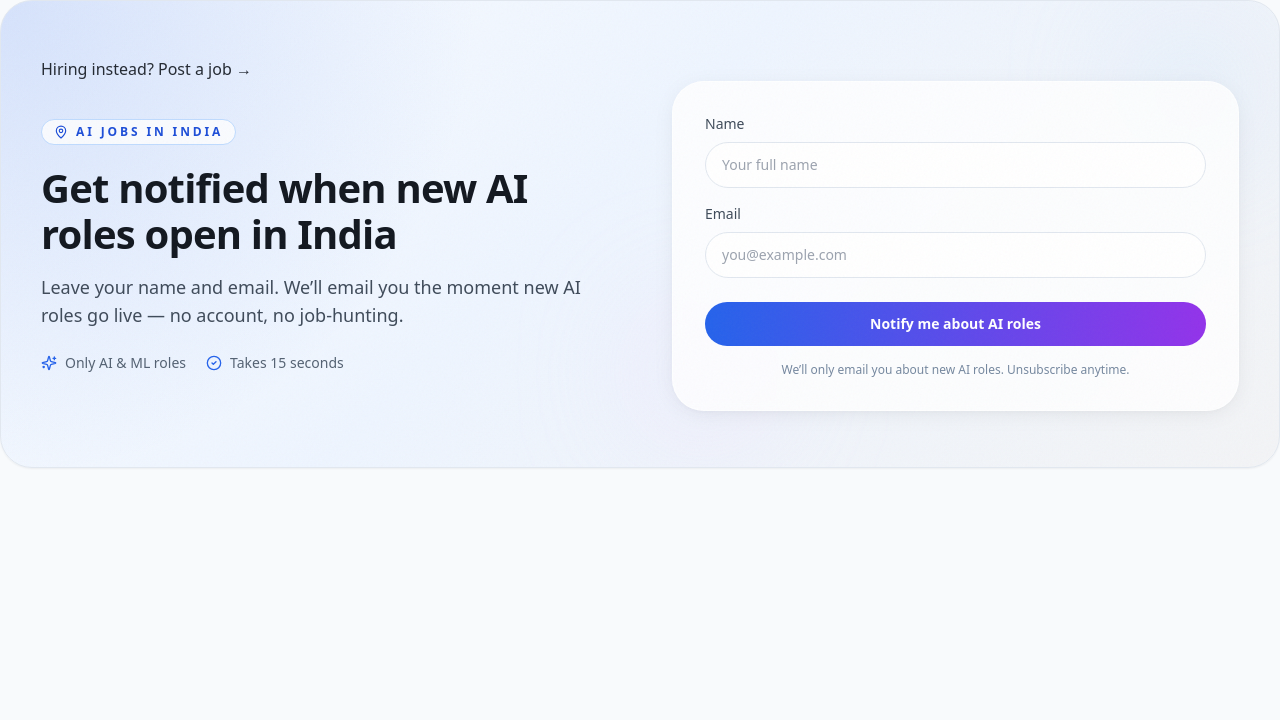
it: CandidateSignupHero › falls back to a friendly message when the failure is opaque
The width and height of the screenshot is (1280, 720).
Type "Ravi Menon" into the field labelled "Name".
click(956, 165); type("Ravi Menon")  # box [705,142,1206,188]
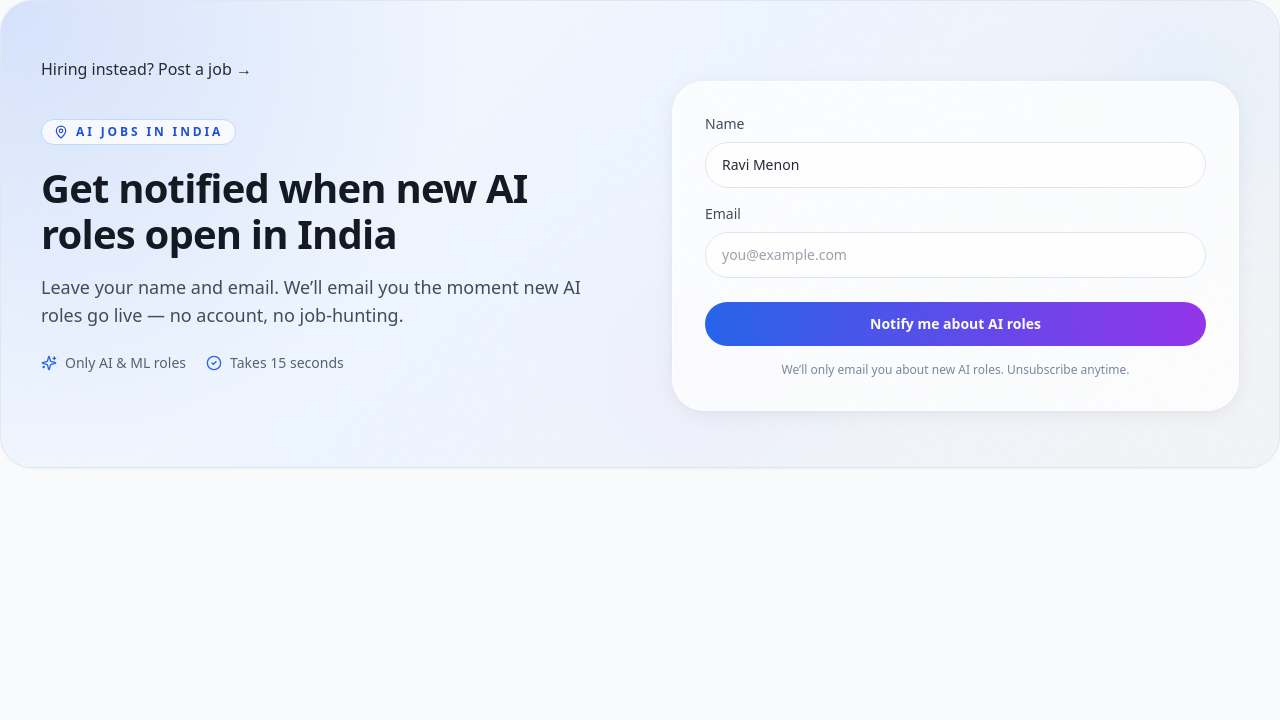
Type "ravi@example.com" into the field labelled "Email".
click(956, 255); type("ravi@example.com")  # box [705,232,1206,278]
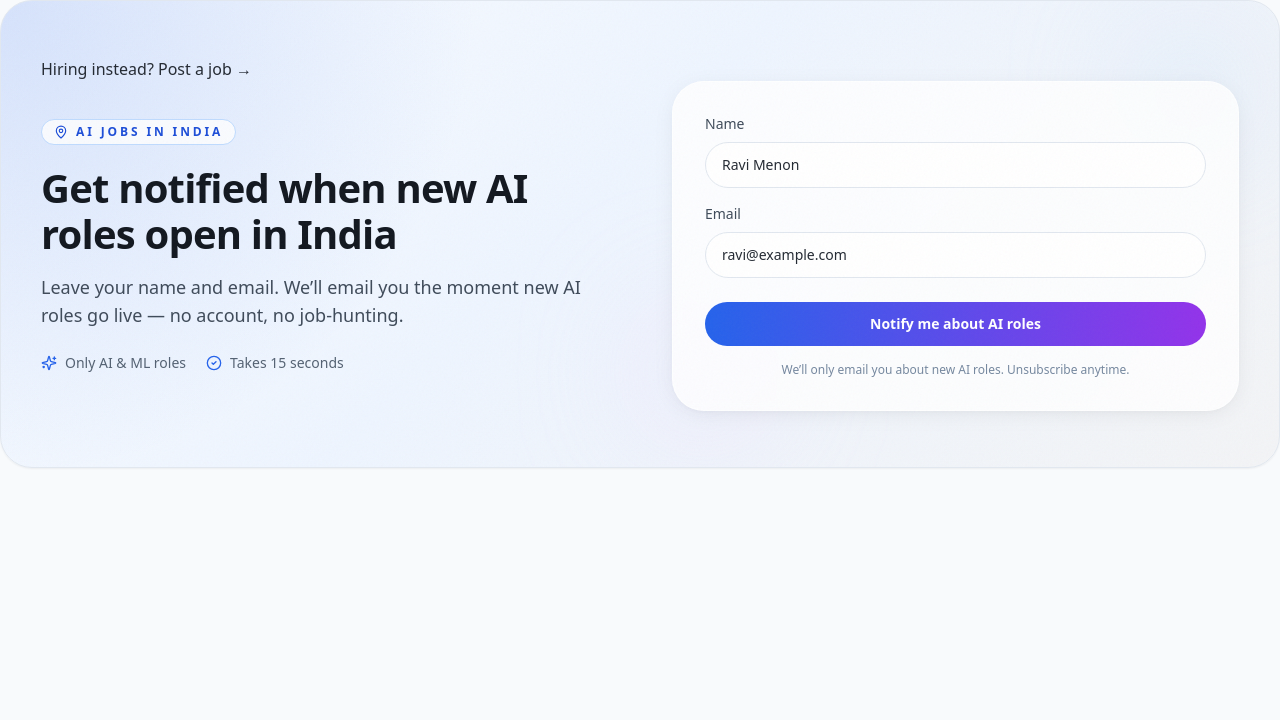
Click the button "Notify me about AI roles".
click(956, 324)  # box [705,302,1206,346]
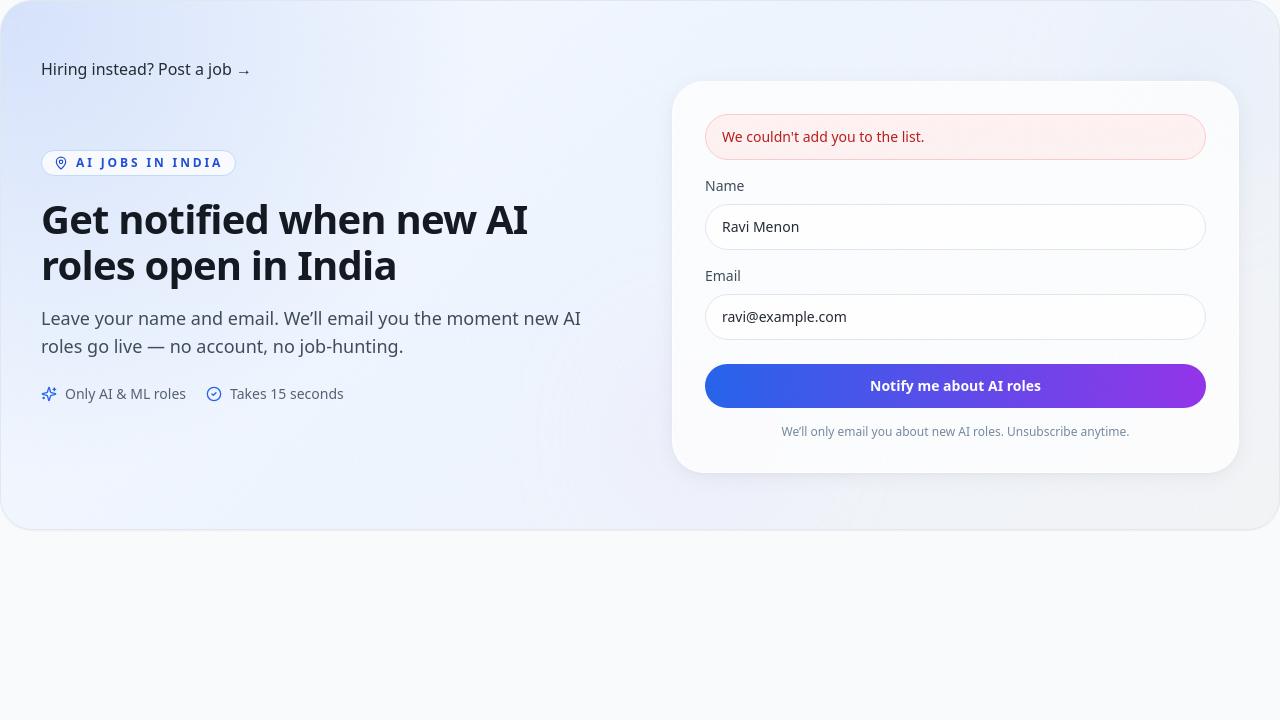
Check: the text "We couldn't add you to the list." is shown, box [705,114,1206,160]
